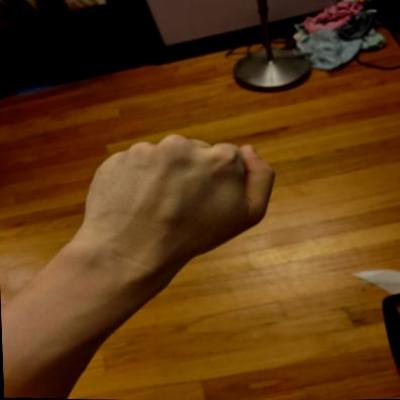hand: (73, 128, 281, 269)
